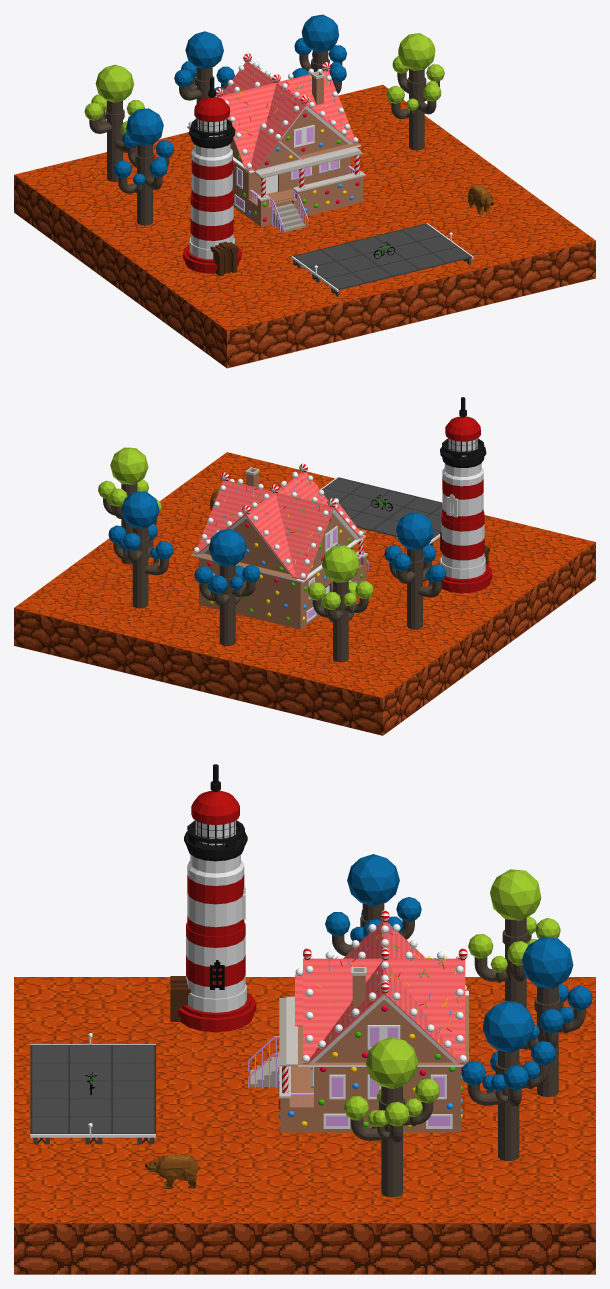
The picture shows the model from 3 angles, top to bottom: view 1: azimuth 30°, elevation 25°; view 2: azimuth 150°, elevation 25°; view 3: azimuth 270°, elevation 25°; orthographic projection. The views are drawn at different scales.
Parts seen in each view (by area): view 1: Cube.001, Cube.1203, OBJRANDOM_LIGHTHOUSE, ANIMAL_OSO; view 2: Cube.001, Cube.1203, OBJRANDOM_LIGHTHOUSE; view 3: Cube.001, Cube.1203, OBJRANDOM_LIGHTHOUSE, ANIMAL_OSO.
Part boxes in pixels (x1,y1,x2,y2): Cube.001: (14,14,595,368); Cube.1203: (187,53,365,233); OBJRANDOM_LIGHTHOUSE: (183,77,241,276); ANIMAL_OSO: (468,185,494,214); Cube.001: (14,447,595,735); Cube.1203: (191,463,368,629); OBJRANDOM_LIGHTHOUSE: (440,397,492,593); Cube.001: (14,854,595,1274); Cube.1203: (248,910,468,1132); OBJRANDOM_LIGHTHOUSE: (170,764,256,1032); ANIMAL_OSO: (145,1155,199,1188).
Bounding box in the file's own units: 4000 × 2375 × 4000.
Materials: 43 (5 with a texture image).
